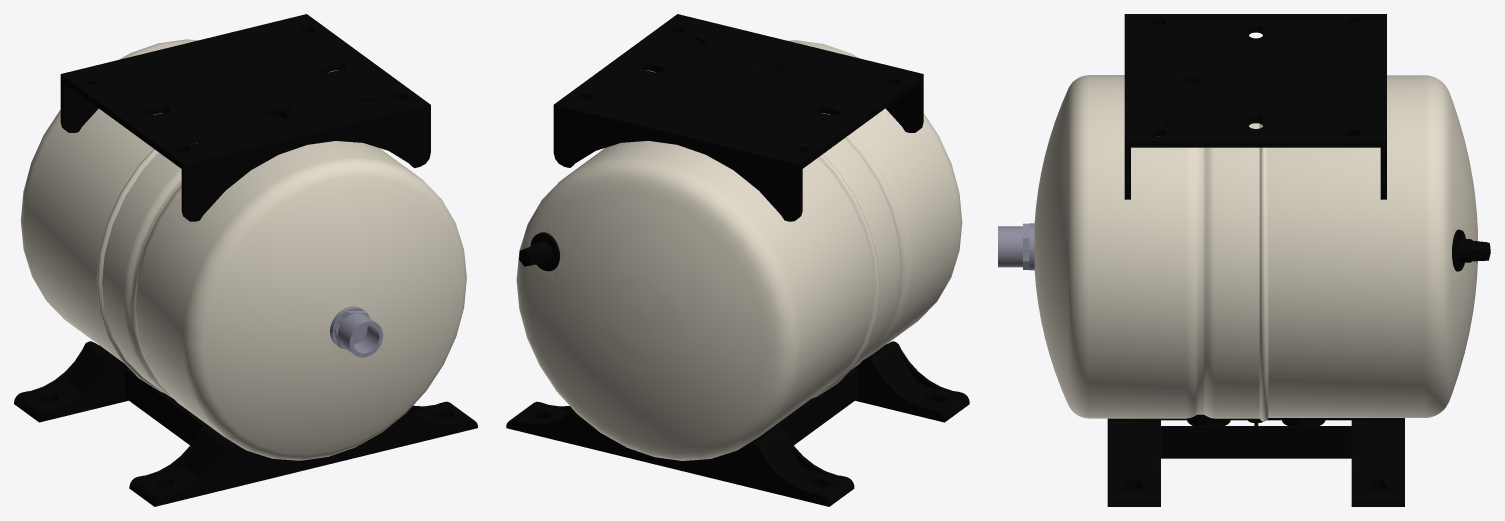
The model's file is 19lt-sabit-yatay-tank.fbx.
3 renders of one model, left to right at view 1: azimuth 30°, elevation 25°; view 2: azimuth 150°, elevation 25°; view 3: azimuth 270°, elevation 25°, orthographic. The views are drawn at different scales.
Visible parts, largest first — view 1: 19lt-sabit-yatay-tank.001, 19lt-sabit-yatay-tank, 19lt-sabit-yatay-tank.007, 19lt-sabit-yatay-tank.015, 19lt-sabit-yatay-tank.008, 19lt-sabit-yatay-tank.006; view 2: 19lt-sabit-yatay-tank.007, 19lt-sabit-yatay-tank, 19lt-sabit-yatay-tank.001, 19lt-sabit-yatay-tank.015, 19lt-sabit-yatay-tank.006, 19lt-sabit-yatay-tank.002; view 3: 19lt-sabit-yatay-tank.001, 19lt-sabit-yatay-tank.007, 19lt-sabit-yatay-tank, 19lt-sabit-yatay-tank.015, 19lt-sabit-yatay-tank.006, 19lt-sabit-yatay-tank.008, 19lt-sabit-yatay-tank.002.
Boxes of the visible parts, box(x1,y1,x2,y2) form: 19lt-sabit-yatay-tank.001: box(102, 141, 466, 460); 19lt-sabit-yatay-tank: box(60, 14, 430, 221); 19lt-sabit-yatay-tank.007: box(20, 39, 197, 363); 19lt-sabit-yatay-tank.015: box(14, 341, 477, 506); 19lt-sabit-yatay-tank.008: box(330, 306, 383, 357); 19lt-sabit-yatay-tank.006: box(96, 149, 163, 392); 19lt-sabit-yatay-tank.007: box(516, 141, 874, 460); 19lt-sabit-yatay-tank: box(553, 14, 923, 221); 19lt-sabit-yatay-tank.001: box(788, 40, 962, 369); 19lt-sabit-yatay-tank.015: box(506, 341, 969, 506); 19lt-sabit-yatay-tank.006: box(812, 154, 879, 398); 19lt-sabit-yatay-tank.002: box(519, 232, 559, 271); 19lt-sabit-yatay-tank.001: box(1034, 75, 1259, 418); 19lt-sabit-yatay-tank.007: box(1268, 75, 1477, 417); 19lt-sabit-yatay-tank: box(1124, 14, 1386, 199); 19lt-sabit-yatay-tank.015: box(1107, 414, 1404, 506); 19lt-sabit-yatay-tank.006: box(1259, 124, 1268, 421); 19lt-sabit-yatay-tank.008: box(998, 223, 1034, 270); 19lt-sabit-yatay-tank.002: box(1452, 229, 1490, 271).
Size of the model in its own units: 2186 by 2112 by 2728.
